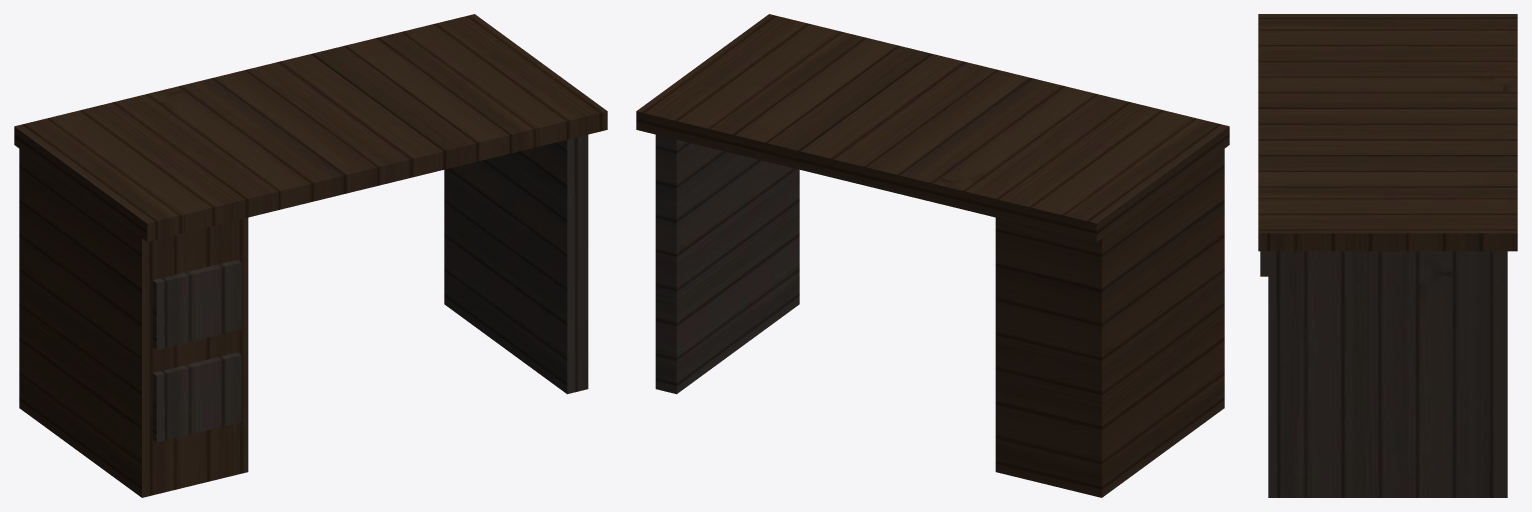
Rendered from desk_01.glb.
3 renders of one model, left to right at view 1: azimuth 30°, elevation 25°; view 2: azimuth 150°, elevation 25°; view 3: azimuth 270°, elevation 25°, orthographic. The views are drawn at different scales.
Visible parts, largest first — view 1: desk_01; view 2: desk_01; view 3: desk_01.
Boxes of the visible parts, box(x1,y1,x2,y2) form: desk_01: box(14, 14, 607, 497); desk_01: box(636, 14, 1229, 497); desk_01: box(1258, 14, 1517, 497).
Size of the model in its own units: 1.3 by 0.75 by 0.65.
2 materials, 2 textured.
